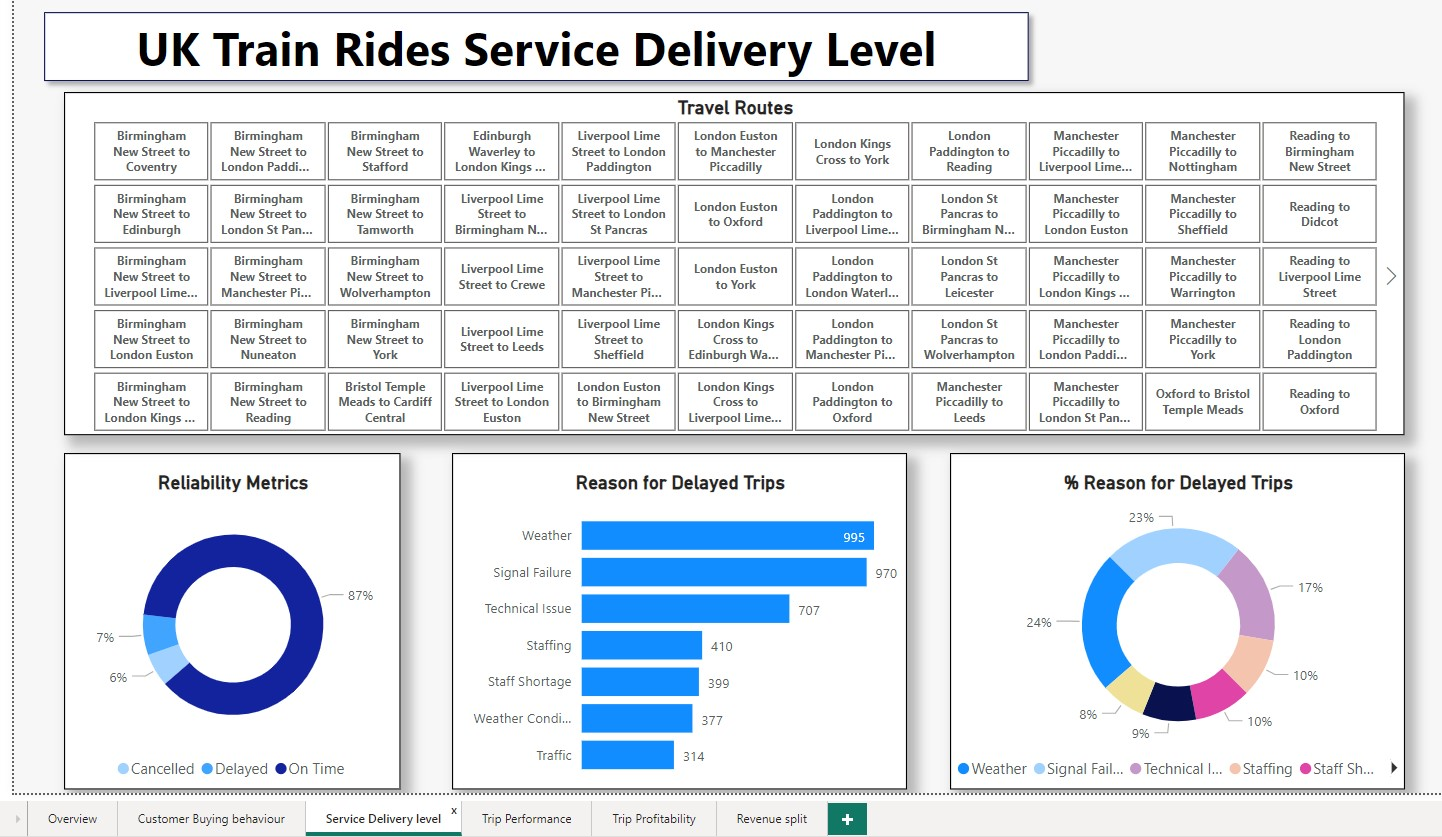

The dashboard page shown, as its layout file describes it:
{"tool":"powerbi","page":{"name":"Service Delivery level","canvas":[1280,720],"ordinal":2},"visuals":[{"type":"clusteredBarChart","title":"Reason for Delayed Trips","fields":{"Category":["railway_clean_data.Reason for Delay"],"Y":["CountNonNull(railway_clean_data.Transaction ID)"]},"box":[392,416.3,406.6,300.5],"z":0},{"type":"donutChart","title":"Reliability Metrics","fields":{"Y":["CountNonNull(railway_clean_data.Transaction ID)"],"Series":["railway_clean_data.Journey Status"]},"box":[44.7,416.3,300.5,300.5],"z":1000},{"type":"donutChart","title":"% Reason for Delayed Trips","fields":{"Category":["railway_clean_data.Reason for Delay"],"Y":["CountNonNull(railway_clean_data.Transaction ID)"]},"box":[837.4,416.3,406.6,300.5],"z":2000},{"type":"slicer","title":"Travel Routes","fields":{"Values":["railway_clean_data.Route"]},"box":[44.7,93.4,1199.3,307.4],"z":3000},{"type":"shape","box":[17.5,12.6,898.7,79.8],"z":4000}]}

Visuals, with their boxes on the page's 1280x720 design canvas (x1, y1, x2, y2). These are canvas units, not pixel positions in the 1442x837 screenshot, which may show the page scaled, cropped or inside an application window:
"Reason for Delayed Trips" clusteredBarChart: BBox(392, 416, 799, 717)
"Reliability Metrics" donutChart: BBox(45, 416, 345, 717)
"% Reason for Delayed Trips" donutChart: BBox(837, 416, 1244, 717)
"Travel Routes" slicer: BBox(45, 93, 1244, 401)
shape: BBox(18, 13, 916, 92)
